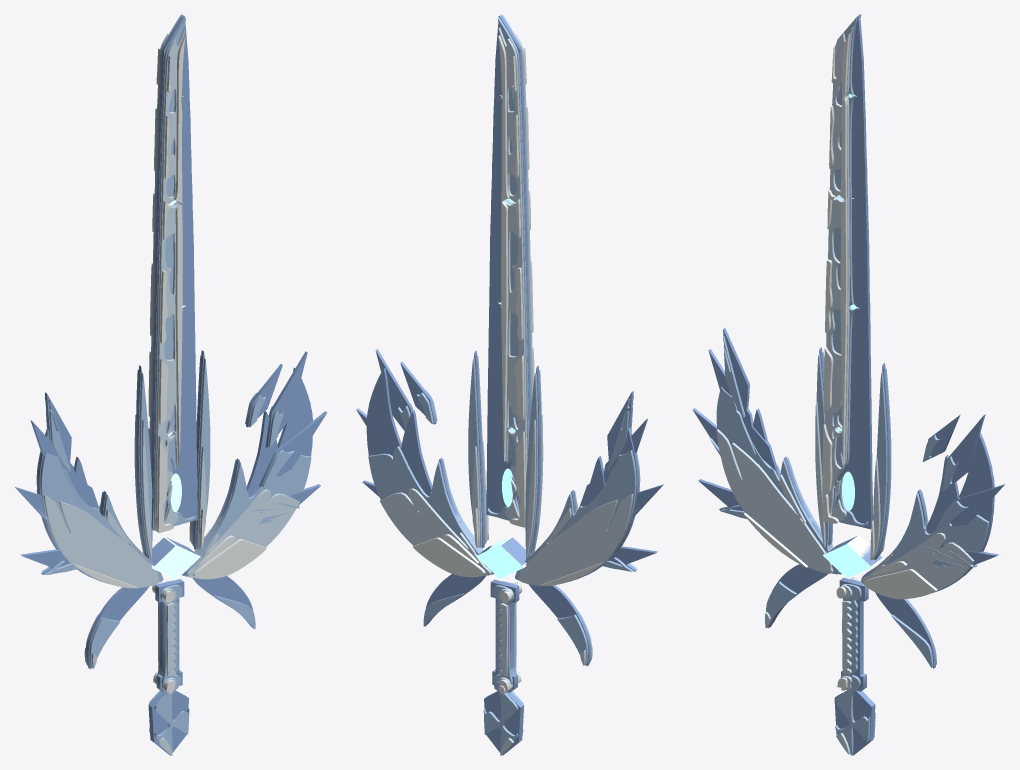
Rendered from halcyon.glb.
The picture shows the model from 3 angles, left to right: view 1: azimuth 30°, elevation 25°; view 2: azimuth 150°, elevation 25°; view 3: azimuth 330°, elevation 25°; orthographic projection.
Visible parts, largest first — view 1: wings_plates1, wings_plates0, blade_base, wings_base, blade_plates1, blade_plates2, blade_plates0, shardsL_base, shardsU_base, wings_plates2, shardsL_plates0, pommel_base (+6 smaller); view 2: wings_plates0, wings_plates1, wings_base, blade_base, blade_plates1, blade_plates2, blade_plates0, wings_plates2, shardsU_base, shardsL_base, pommel_base, pommel_plates0 (+5 smaller); view 3: wings_plates1, blade_base, wings_plates0, wings_base, blade_plates1, blade_plates2, blade_plates0, shardsU_base, shardsL_base, wings_plates2, core_glow_face, pommel_base (+6 smaller).
Part boxes in pixels (bbox=[...]): wings_plates1: bbox=[36, 415, 299, 668]; wings_plates0: bbox=[36, 355, 311, 668]; blade_base: bbox=[151, 14, 197, 530]; wings_base: bbox=[37, 350, 312, 669]; blade_plates1: bbox=[149, 28, 185, 525]; blade_plates2: bbox=[148, 35, 185, 532]; blade_plates0: bbox=[150, 15, 196, 526]; shardsL_base: bbox=[246, 351, 327, 507]; shardsU_base: bbox=[15, 392, 99, 574]; wings_plates2: bbox=[74, 509, 266, 588]; shardsL_plates0: bbox=[245, 392, 299, 523]; pommel_base: bbox=[148, 686, 188, 755]; wings_plates0: bbox=[368, 356, 640, 665]; wings_plates1: bbox=[380, 414, 639, 665]; wings_base: bbox=[366, 350, 638, 665]; blade_base: bbox=[486, 14, 530, 516]; blade_plates1: bbox=[498, 27, 533, 519]; blade_plates2: bbox=[498, 35, 534, 527]; blade_plates0: bbox=[487, 14, 531, 520]; wings_plates2: bbox=[413, 508, 603, 586]; shardsU_base: bbox=[579, 391, 663, 571]; shardsL_base: bbox=[356, 349, 436, 496]; pommel_base: bbox=[484, 677, 524, 755]; pommel_plates0: bbox=[483, 681, 523, 755]; wings_plates1: bbox=[716, 402, 974, 627]; blade_base: bbox=[834, 14, 872, 529]; wings_plates0: bbox=[716, 352, 992, 667]; wings_base: bbox=[724, 347, 994, 668]; blade_plates1: bbox=[824, 26, 853, 520]; blade_plates2: bbox=[822, 33, 850, 523]; blade_plates0: bbox=[832, 14, 868, 526]; shardsU_base: bbox=[692, 328, 777, 510]; shardsL_base: bbox=[923, 414, 1004, 567]; wings_plates2: bbox=[743, 512, 937, 599]; core_glow_face: bbox=[823, 535, 883, 578]; pommel_base: bbox=[834, 689, 875, 755].
Bounding box in the file's own units: 0.7917 × 1.81 × 0.0805.
